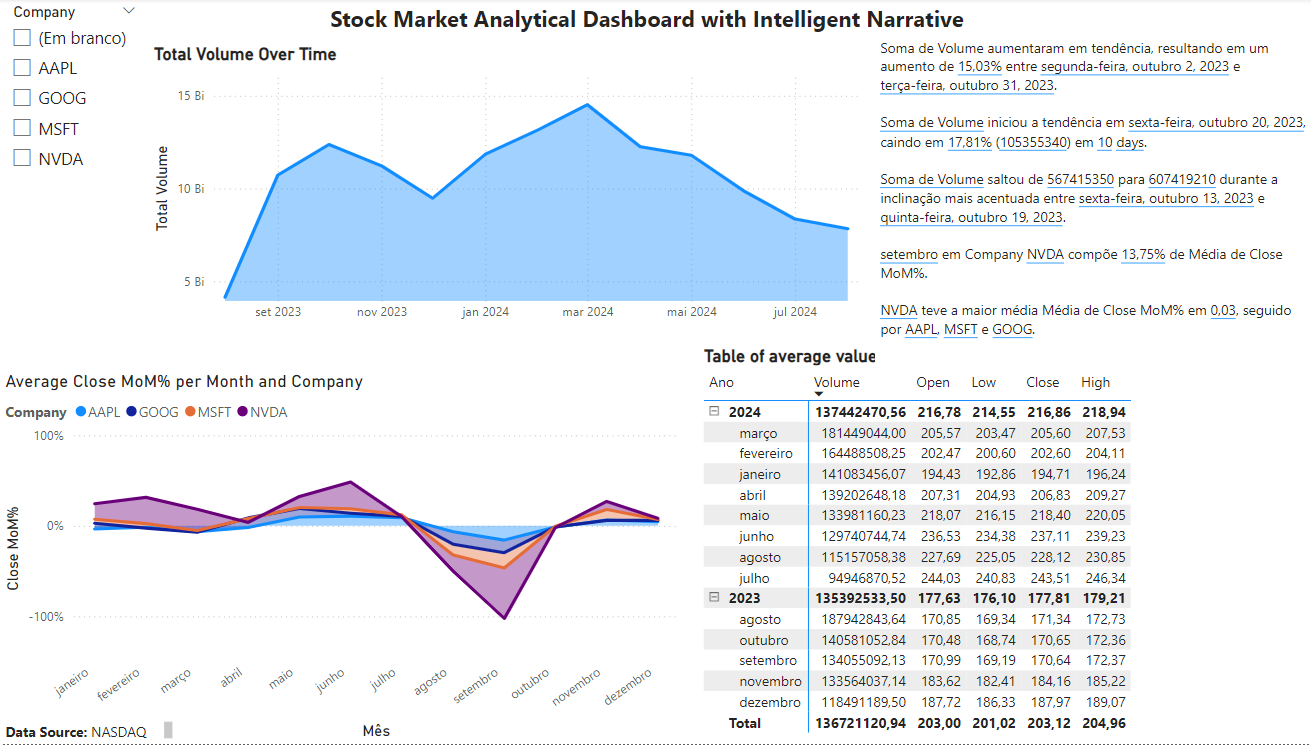

This screenshot's page, from the dashboard's own definition file:
{"tool":"powerbi","page":{"name":"Stock Market","canvas":[1280,720],"ordinal":0},"visuals":[{"type":"areaChart","title":"Total Volume Over Time","fields":{"Category":["TEC Stock Market.Date.Variation.Hierarquia de datas.Ano","TEC Stock Market.Date.Variation.Hierarquia de datas.Trimestre","TEC Stock Market.Date.Variation.Hierarquia de datas.Mês","TEC Stock Market.Date.Variation.Hierarquia de datas.Dia"],"Y":["Sum(TEC Stock Market.Volume)"]},"box":[143.6,43.4,700.9,292],"z":0},{"type":"pivotTable","title":"Table of average values per month","fields":{"Rows":["TEC Stock Market.Date.Variation.Hierarquia de datas.Ano","TEC Stock Market.Date.Variation.Hierarquia de datas.Mês"],"Values":["Avg(TEC Stock Market.Volume)","Avg(TEC Stock Market.Open)","Avg(TEC Stock Market.Low)","Sum(TEC Stock Market.Close)","Avg(TEC Stock Market.High)"]},"box":[674.4,335.4,591.2,384.9],"z":1000},{"type":"slicer","fields":{"Values":["TEC Stock Market.Company"]},"box":[0,0,143.6,189.4],"z":2000},{"type":"stackedAreaChart","title":"Average Close MoM% per Month and Company","fields":{"Category":["TEC Stock Market.Date.Variation.Hierarquia de datas.Mês"],"Y":["StockMarket.Média de Close MoM%"],"Series":["StockMarket.Company"]},"box":[0,359.5,659.9,360.7],"z":3000},{"type":"textbox","box":[313.7,0,646.7,43.4],"z":4000},{"type":"textbox","box":[844.5,33.8,435.5,325.7],"z":5000},{"type":"textbox","box":[0,693.7,171.3,26.5],"z":6000}]}

Visuals, with their boxes in screenshot pixels (x1, y1, x2, y2), scaled from the page's 1280x720 canvas onto the 1311x745 screenshot:
"Total Volume Over Time" areaChart: region(147, 45, 865, 347)
"Table of average values per month" pivotTable: region(691, 347, 1296, 744)
slicer - TEC Stock Market.Company: region(0, 0, 147, 196)
"Average Close MoM% per Month and Company" stackedAreaChart: region(0, 372, 676, 744)
textbox: region(321, 0, 984, 45)
textbox: region(865, 35, 1310, 372)
textbox: region(0, 718, 175, 744)
